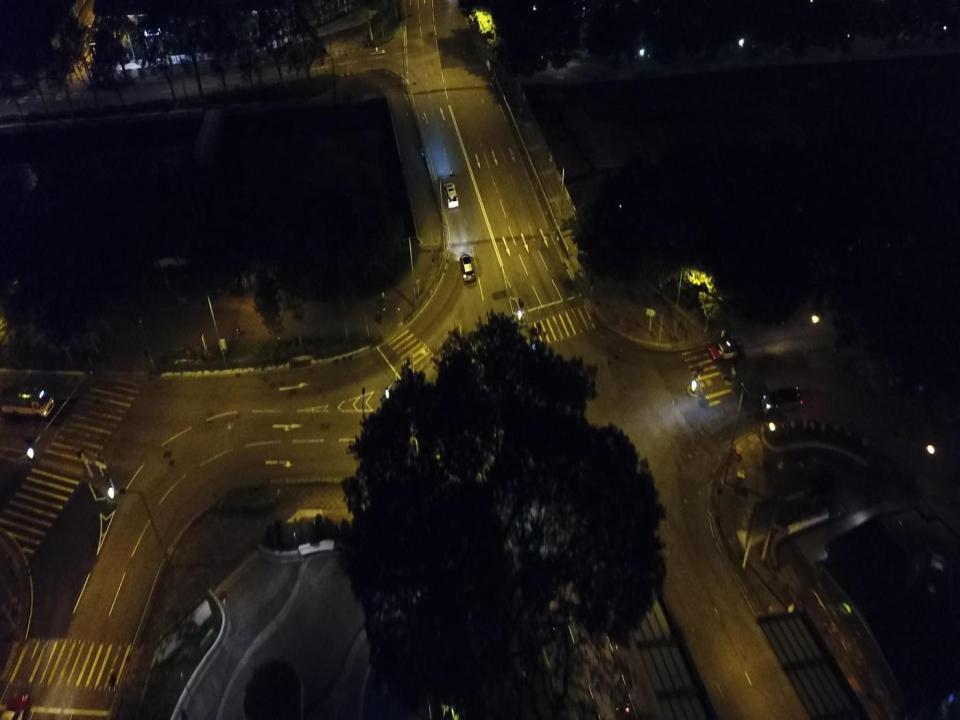bus: (0, 381, 56, 419)
car: (761, 384, 804, 416), (708, 336, 744, 361), (460, 254, 476, 282), (443, 181, 459, 208)
